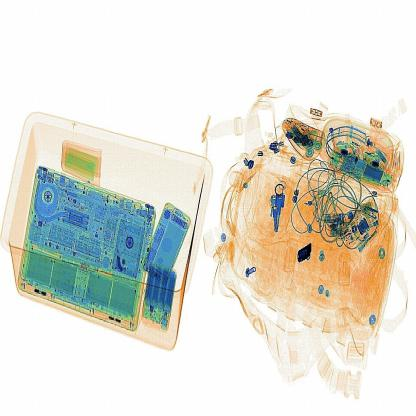knife: (294, 244, 315, 268)
